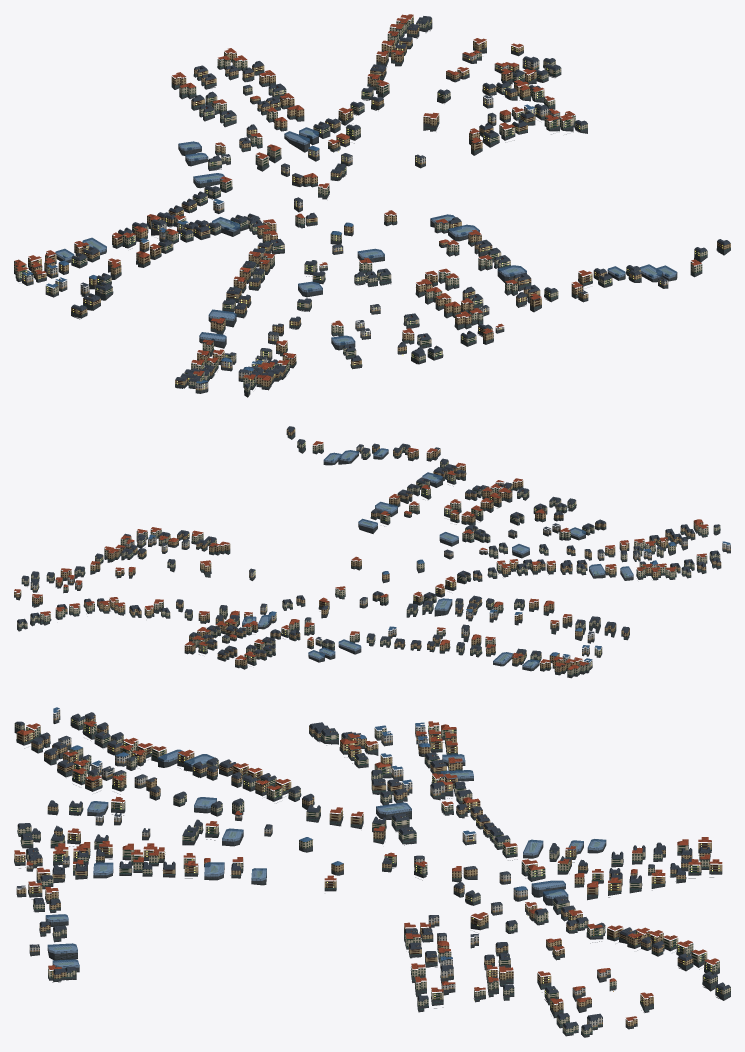
Rendered from osm_buildings_T_E02_N01_Q2.glb.
3 renders of one model, top to bottom at view 1: azimuth 30°, elevation 25°; view 2: azimuth 150°, elevation 25°; view 3: azimuth 270°, elevation 25°, orthographic. The views are drawn at different scales.
Parts seen in each view (by area): view 1: OSM_T_E02_N01_Q2_foundation, OSM_T_E02_N01_Q2_wall_french_ochre, OSM_T_E02_N01_Q2_wall_cream_stucco, OSM_T_E02_N01_Q2_roof_mansard_slate, OSM_T_E02_N01_Q2_roof_terracotta, OSM_T_E02_N01_Q2_greenhouse_blend, OSM_T_E02_N01_Q2_roof_mansard_deck, OSM_T_E02_N01_Q2_roof_mint_metal, OSM_T_E02_N01_Q2_wall_warm_white, OSM_T_E02_N01_Q2_trim_cornice, OSM_T_E02_N01_Q2_balcony_railing, OSM_T_E02_N01_Q2_wall_pastel_sand (+2 smaller); view 2: OSM_T_E02_N01_Q2_foundation, OSM_T_E02_N01_Q2_wall_french_ochre, OSM_T_E02_N01_Q2_wall_cream_stucco, OSM_T_E02_N01_Q2_roof_mansard_slate, OSM_T_E02_N01_Q2_roof_terracotta, OSM_T_E02_N01_Q2_greenhouse_blend, OSM_T_E02_N01_Q2_roof_mansard_deck, OSM_T_E02_N01_Q2_roof_mint_metal, OSM_T_E02_N01_Q2_trim_cornice, OSM_T_E02_N01_Q2_wall_warm_white, OSM_T_E02_N01_Q2_wall_pastel_sand, OSM_T_E02_N01_Q2_balcony_railing (+1 smaller); view 3: OSM_T_E02_N01_Q2_foundation, OSM_T_E02_N01_Q2_wall_french_ochre, OSM_T_E02_N01_Q2_wall_cream_stucco, OSM_T_E02_N01_Q2_roof_mansard_slate, OSM_T_E02_N01_Q2_roof_terracotta, OSM_T_E02_N01_Q2_greenhouse_blend, OSM_T_E02_N01_Q2_roof_mansard_deck, OSM_T_E02_N01_Q2_roof_mint_metal, OSM_T_E02_N01_Q2_trim_cornice, OSM_T_E02_N01_Q2_balcony_railing, OSM_T_E02_N01_Q2_wall_pastel_sand, OSM_T_E02_N01_Q2_wall_warm_white (+2 smaller).
Part boxes in pixels (x1=…): OSM_T_E02_N01_Q2_foundation: x1=14, y1=22, x2=730, y2=397; OSM_T_E02_N01_Q2_wall_french_ochre: x1=28, y1=26, x2=730, y2=386; OSM_T_E02_N01_Q2_wall_cream_stucco: x1=14, y1=16, x2=707, y2=392; OSM_T_E02_N01_Q2_roof_mansard_slate: x1=71, y1=16, x2=730, y2=388; OSM_T_E02_N01_Q2_roof_terracotta: x1=14, y1=14, x2=701, y2=380; OSM_T_E02_N01_Q2_greenhouse_blend: x1=55, y1=127, x2=676, y2=345; OSM_T_E02_N01_Q2_roof_mansard_deck: x1=62, y1=16, x2=728, y2=385; OSM_T_E02_N01_Q2_roof_mint_metal: x1=15, y1=23, x2=730, y2=392; OSM_T_E02_N01_Q2_wall_warm_white: x1=46, y1=59, x2=560, y2=390; OSM_T_E02_N01_Q2_trim_cornice: x1=16, y1=18, x2=725, y2=389; OSM_T_E02_N01_Q2_balcony_railing: x1=20, y1=18, x2=722, y2=394; OSM_T_E02_N01_Q2_wall_pastel_sand: x1=22, y1=53, x2=668, y2=368; OSM_T_E02_N01_Q2_foundation: x1=14, y1=432, x2=730, y2=678; OSM_T_E02_N01_Q2_wall_french_ochre: x1=14, y1=429, x2=721, y2=672; OSM_T_E02_N01_Q2_wall_cream_stucco: x1=17, y1=442, x2=720, y2=675; OSM_T_E02_N01_Q2_roof_mansard_slate: x1=17, y1=427, x2=720, y2=656; OSM_T_E02_N01_Q2_roof_terracotta: x1=14, y1=441, x2=708, y2=669; OSM_T_E02_N01_Q2_greenhouse_blend: x1=242, y1=448, x2=633, y2=668; OSM_T_E02_N01_Q2_roof_mansard_deck: x1=18, y1=426, x2=719, y2=667; OSM_T_E02_N01_Q2_roof_mint_metal: x1=18, y1=435, x2=719, y2=675; OSM_T_E02_N01_Q2_trim_cornice: x1=15, y1=429, x2=728, y2=673; OSM_T_E02_N01_Q2_wall_warm_white: x1=30, y1=486, x2=730, y2=663; OSM_T_E02_N01_Q2_wall_pastel_sand: x1=67, y1=445, x2=657, y2=667; OSM_T_E02_N01_Q2_balcony_railing: x1=28, y1=437, x2=705, y2=666; OSM_T_E02_N01_Q2_foundation: x1=14, y1=716, x2=730, y2=1037; OSM_T_E02_N01_Q2_wall_french_ochre: x1=14, y1=715, x2=722, y2=1026; OSM_T_E02_N01_Q2_wall_cream_stucco: x1=14, y1=716, x2=730, y2=1034; OSM_T_E02_N01_Q2_roof_mansard_slate: x1=15, y1=713, x2=730, y2=1030; OSM_T_E02_N01_Q2_roof_terracotta: x1=14, y1=721, x2=722, y2=1020; OSM_T_E02_N01_Q2_greenhouse_blend: x1=45, y1=749, x2=606, y2=968; OSM_T_E02_N01_Q2_roof_mansard_deck: x1=17, y1=712, x2=728, y2=1027; OSM_T_E02_N01_Q2_roof_mint_metal: x1=15, y1=721, x2=730, y2=1034; OSM_T_E02_N01_Q2_trim_cornice: x1=18, y1=710, x2=730, y2=1032; OSM_T_E02_N01_Q2_balcony_railing: x1=15, y1=726, x2=721, y2=1020; OSM_T_E02_N01_Q2_wall_pastel_sand: x1=26, y1=724, x2=610, y2=995; OSM_T_E02_N01_Q2_wall_warm_white: x1=53, y1=710, x2=602, y2=1027.
Bounding box in the file's own units: 976 × 78.89 × 928.
16 materials, 16 textured.
